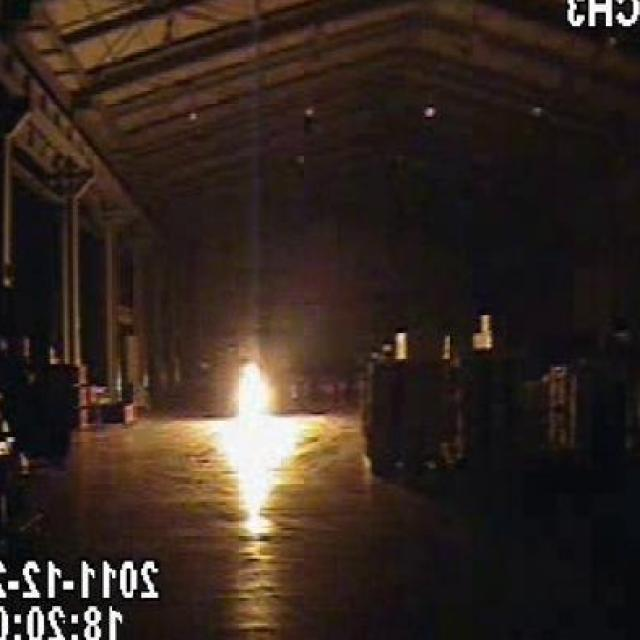smoke: (228, 367, 282, 466)
